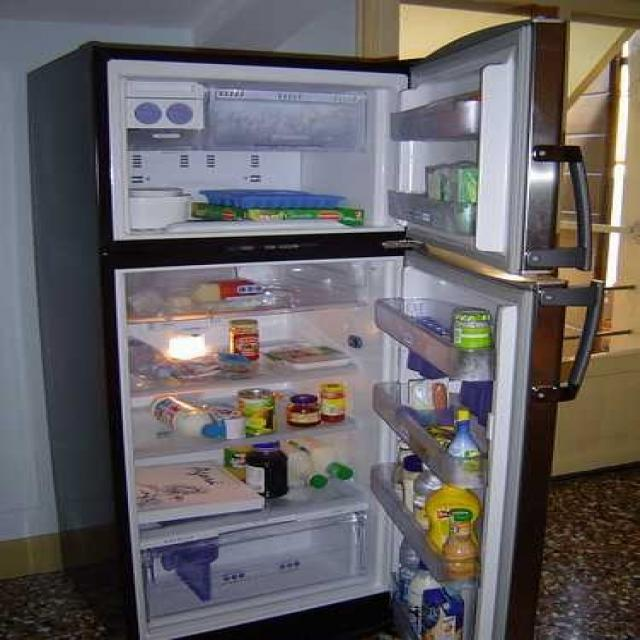refrigerator: (87, 39, 504, 640)
